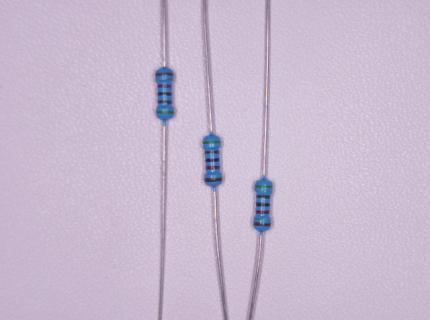Black band: (255, 202, 270, 207), (205, 158, 220, 163), (158, 92, 172, 96)
Brown band: (253, 222, 272, 227), (204, 177, 223, 182), (155, 72, 174, 77), (157, 100, 172, 105), (256, 194, 270, 199), (204, 150, 220, 154)
Green band: (202, 140, 221, 145), (254, 184, 273, 189), (155, 110, 174, 114)
Red band: (256, 209, 270, 215), (206, 165, 221, 170), (157, 84, 171, 89)
